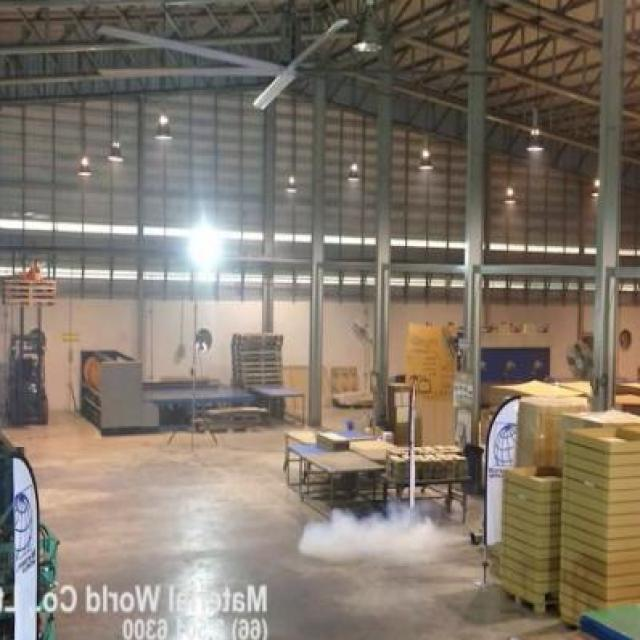fire: (294, 496, 454, 572)
